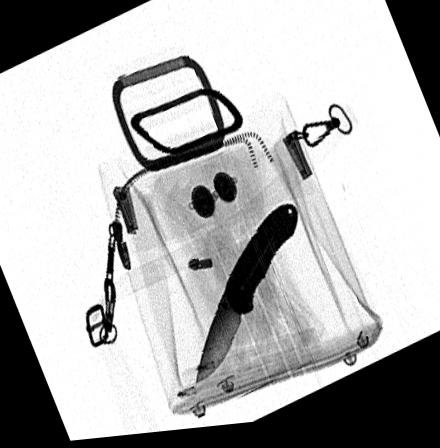Knife: (194, 208, 297, 388)
